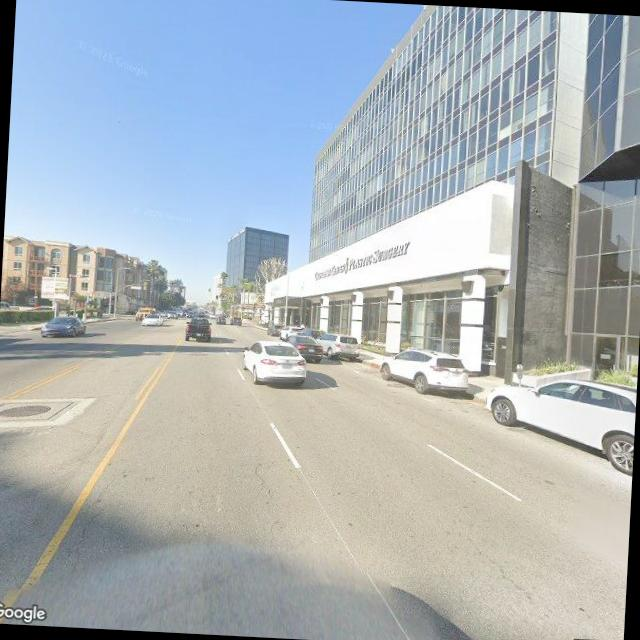pothole: (462, 538, 542, 608), (75, 468, 123, 546), (248, 453, 274, 502)
